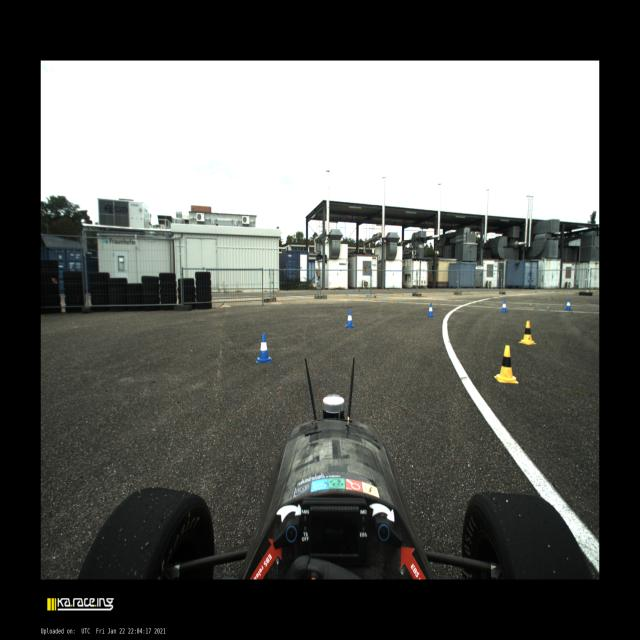blue_cone: (256, 333, 272, 363), (344, 310, 355, 327), (500, 300, 508, 313), (427, 303, 434, 317), (565, 299, 572, 310)
yellow_cone: (494, 345, 519, 384), (519, 321, 536, 345)
